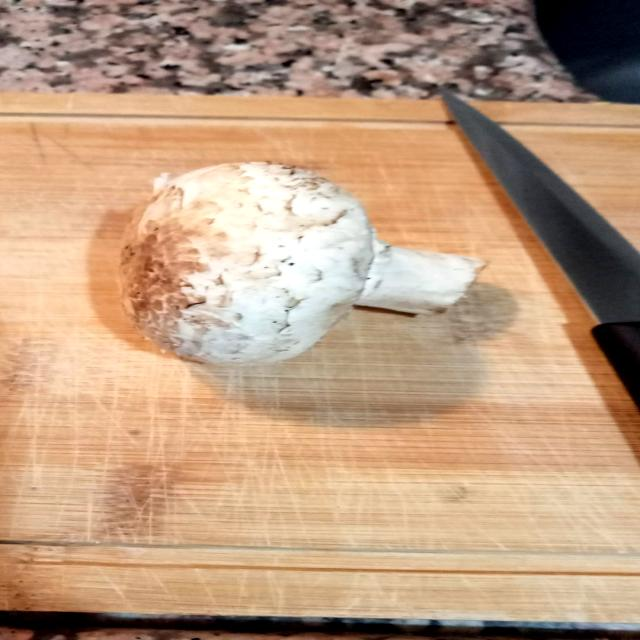mushroom: (102, 142, 506, 381)
